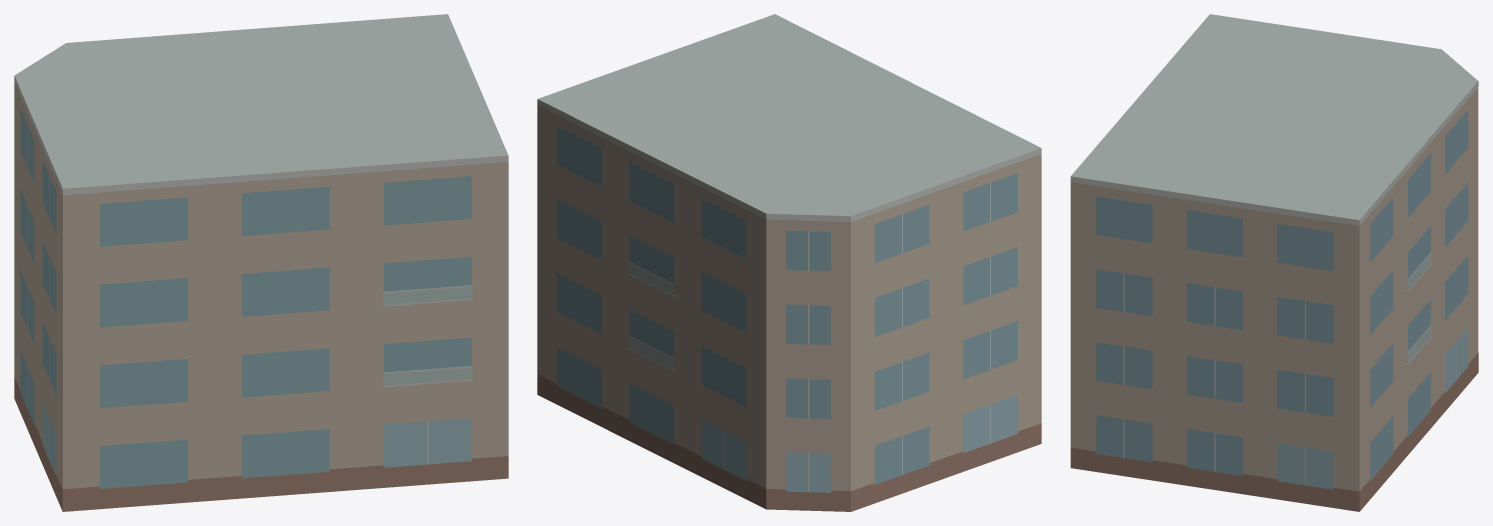
Rendered from survey-upis-32888282.glb.
3 views of the same model, side by side, from view 1: azimuth 30°, elevation 25°; view 2: azimuth 150°, elevation 25°; view 3: azimuth 270°, elevation 25° (orthographic). The views are drawn at different scales.
Visible parts, largest first — view 1: survey-upis-32888282.tmp; view 2: survey-upis-32888282.tmp; view 3: survey-upis-32888282.tmp.
Boxes of the visible parts, left/top/right/bottom form: survey-upis-32888282.tmp: left=14, top=14, right=508, bottom=511; survey-upis-32888282.tmp: left=537, top=14, right=1041, bottom=511; survey-upis-32888282.tmp: left=1070, top=14, right=1478, bottom=511.
Size of the model in its own units: 18.51 by 12.2 by 15.48.
